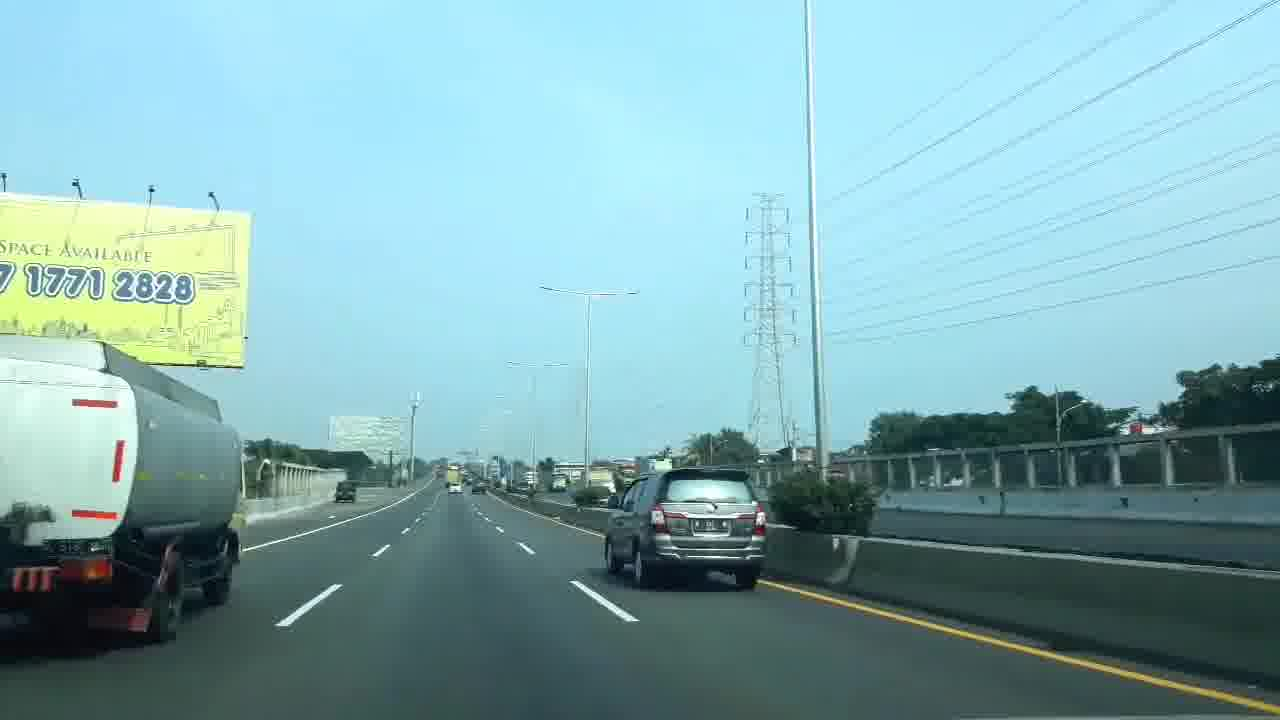plate_positive: (693, 519, 730, 533)
